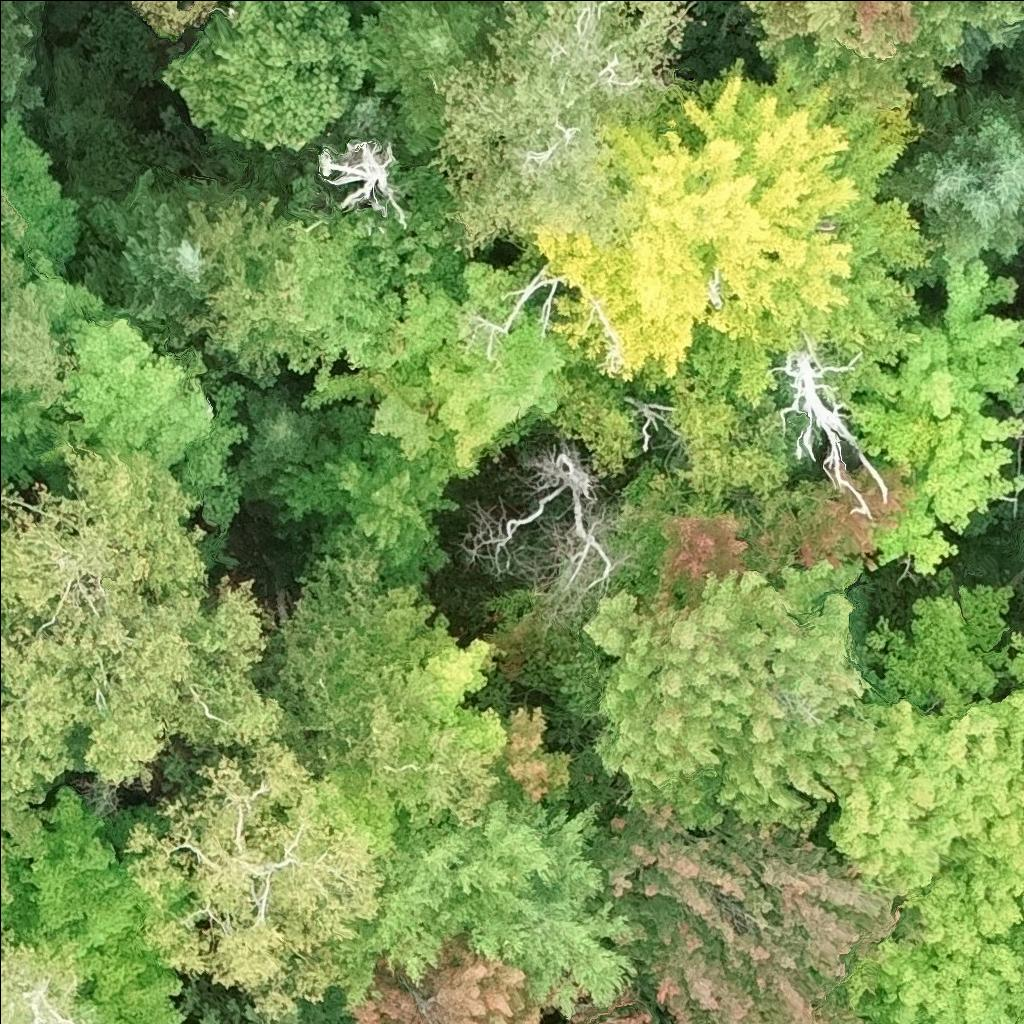crown: (523, 55, 945, 406), (0, 443, 310, 809), (580, 554, 881, 833), (824, 578, 1023, 960), (122, 740, 389, 1020), (333, 788, 643, 1017), (0, 256, 250, 531), (596, 798, 899, 1023), (428, 0, 697, 251), (298, 250, 586, 482), (830, 244, 1023, 577), (265, 160, 466, 391), (0, 786, 193, 1023), (162, 0, 379, 152), (457, 440, 633, 622), (733, 0, 1023, 107), (266, 432, 458, 587), (616, 459, 792, 609), (883, 78, 1023, 265), (668, 368, 806, 531), (365, 0, 501, 155), (777, 338, 887, 520), (84, 165, 204, 331), (339, 932, 544, 1023), (848, 922, 1023, 1023), (0, 191, 76, 407), (232, 383, 333, 503), (556, 358, 630, 485), (0, 920, 89, 1023), (495, 705, 583, 808), (317, 139, 407, 229), (0, 0, 49, 109), (0, 800, 48, 905), (196, 992, 348, 1023), (127, 0, 222, 41), (562, 985, 652, 1023)
